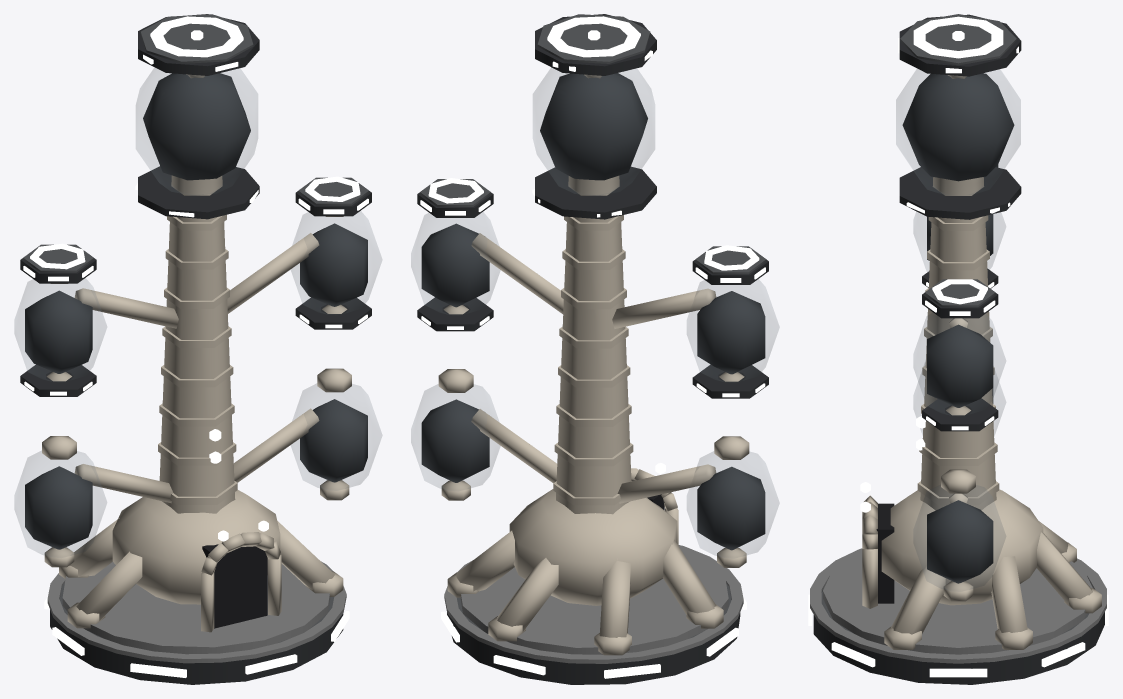
The model's file is Skin_BioPod_T3.glb.
3 views of the same model, side by side, from view 1: azimuth 30°, elevation 25°; view 2: azimuth 150°, elevation 25°; view 3: azimuth 270°, elevation 25° (orthographic).
Parts seen in each view (by area): view 1: Skin_BioPod_T3; view 2: Skin_BioPod_T3; view 3: Skin_BioPod_T3.
Boxes of the visible parts, <box> form: Skin_BioPod_T3: <box>14,14,382,684</box>; Skin_BioPod_T3: <box>411,14,779,684</box>; Skin_BioPod_T3: <box>808,14,1108,684</box>.
Size of the model in its own units: 5.32 by 8.4 by 3.88.
